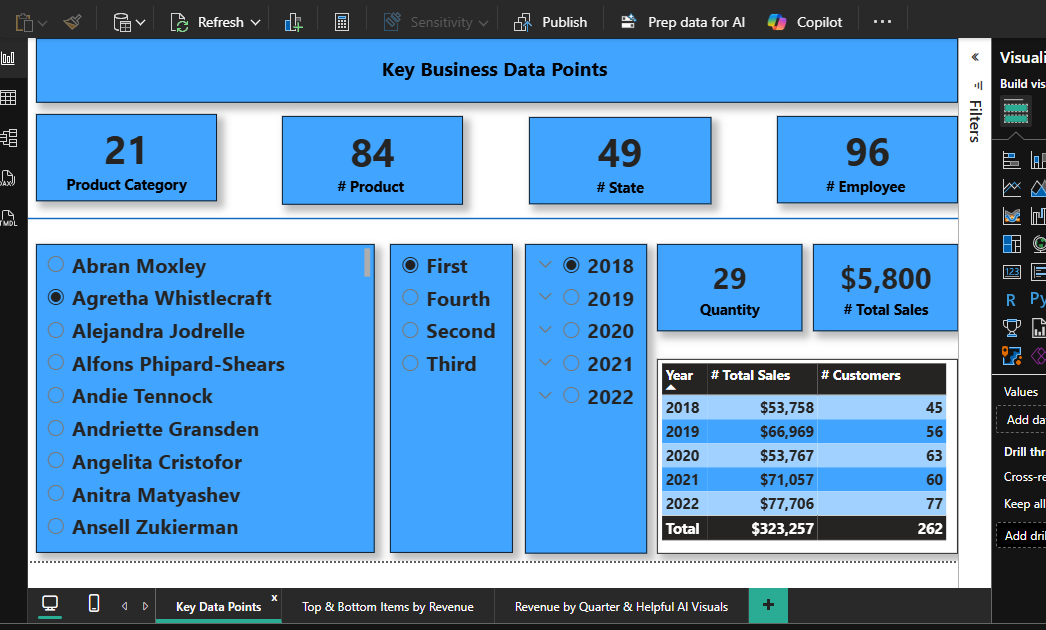

This screenshot's page, from the dashboard's own definition file:
{"tool":"powerbi","page":{"name":"Key Data Points","canvas":[1280,720],"ordinal":0},"visuals":[{"type":"tableEx","fields":{"Values":["DimTransaction.Year","Sum(FactSales.Total Sales)","FactSales.Customer_ID"]},"box":[866.2,441.5,413.8,267.7],"z":0},{"type":"card","fields":{"Values":["Count(DimProducts.Product ID)"]},"box":[350.3,107.7,249.2,121.5],"z":1000},{"type":"card","fields":{"Values":["Count(DimCustomers.State)"]},"box":[689.7,109.2,250.8,120],"z":2000},{"type":"card","fields":{"Values":["Count(DimProducts.Product Category)"]},"box":[10.8,104.6,249.2,120],"z":3000},{"type":"card","fields":{"Values":["Count(DimEmployee.Employee ID)"]},"box":[1030.8,107.7,249.2,120],"z":4000},{"type":"textbox","box":[10.8,0,1269.2,89.2],"z":5000},{"type":"shape","box":[0,213.6,1280.2,70.2],"z":6000},{"type":"card","fields":{"Values":["Sum(FactSales.Quantity)"]},"box":[866.4,283.8,200.2,119.5],"z":7000},{"type":"card","fields":{"Values":["Sum(FactSales.Total Sales)"]},"box":[1080,283.8,200.2,119.5],"z":8000},{"type":"slicer","fields":{"Values":["DimTransaction.Year","FactSales.Total Sales"]},"box":[684.6,283.1,167.7,426.2],"z":9000},{"type":"slicer","fields":{"Values":["DimTransaction.Quarter"]},"box":[498.5,283.1,169.2,424.6],"z":10000},{"type":"slicer","fields":{"Values":["DimEmployee.Full Name"]},"box":[10.8,283.1,466.2,424.6],"z":11000}]}

Visuals, with their boxes on the page's 1280x720 design canvas (x1, y1, x2, y2). These are canvas units, not pixel positions in the 1046x630 screenshot, which may show the page scaled, cropped or inside an application window:
tableEx - DimTransaction.Year x Sum(FactSales.Total Sales): x1=866, y1=442, x2=1280, y2=709
card - Count(DimProducts.Product ID): x1=350, y1=108, x2=600, y2=229
card - Count(DimCustomers.State): x1=690, y1=109, x2=940, y2=229
card - Count(DimProducts.Product Category): x1=11, y1=105, x2=260, y2=225
card - Count(DimEmployee.Employee ID): x1=1031, y1=108, x2=1280, y2=228
textbox: x1=11, y1=0, x2=1280, y2=89
shape: x1=0, y1=214, x2=1280, y2=284
card - Sum(FactSales.Quantity): x1=866, y1=284, x2=1067, y2=403
card - Sum(FactSales.Total Sales): x1=1080, y1=284, x2=1280, y2=403
slicer - DimTransaction.Year x FactSales.Total Sales: x1=685, y1=283, x2=852, y2=709
slicer - DimTransaction.Quarter: x1=498, y1=283, x2=668, y2=708
slicer - DimEmployee.Full Name: x1=11, y1=283, x2=477, y2=708
